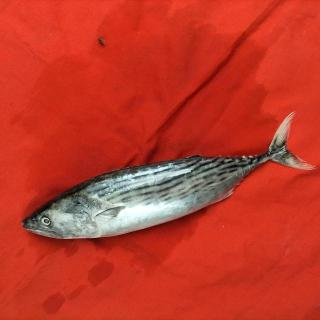Ikan: (18, 108, 320, 263)
